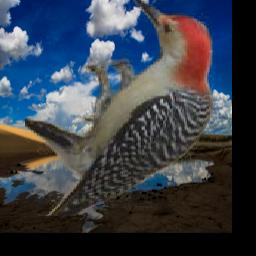Woodpecker: (26, 0, 221, 216)
